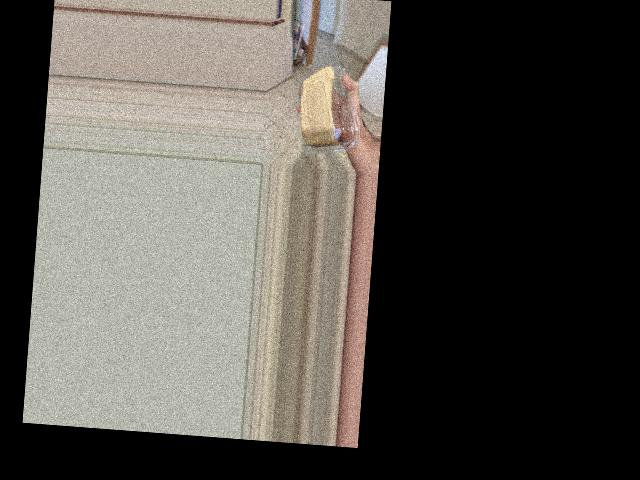cheese: (304, 82, 346, 159)
